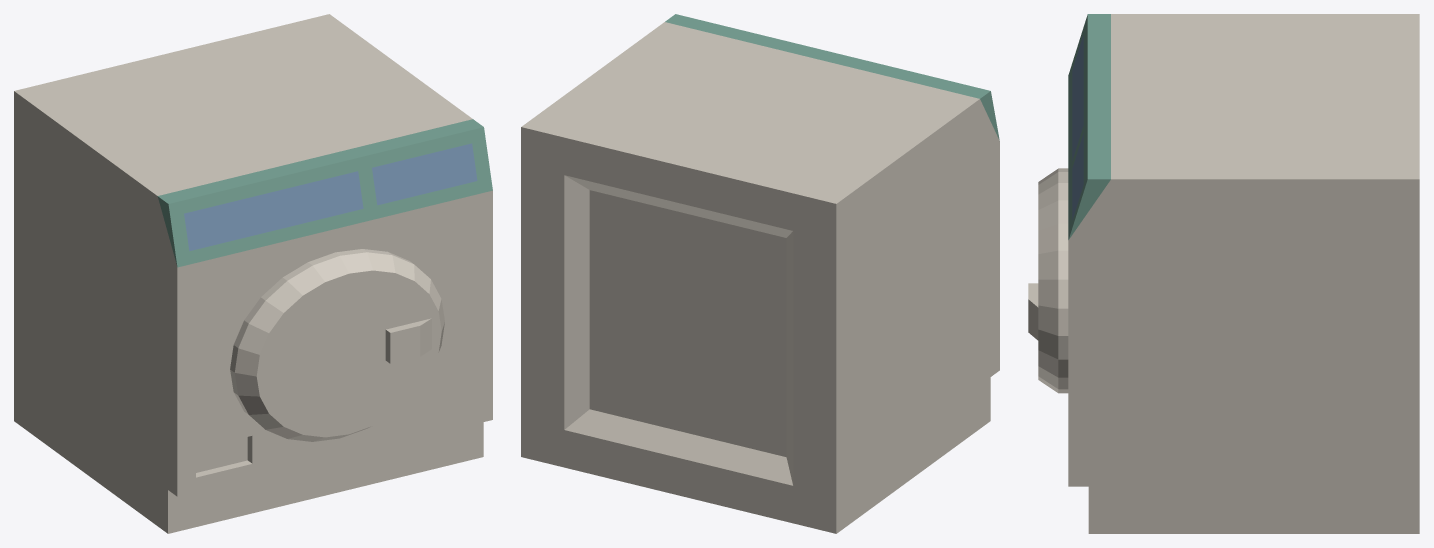
File: washer.glb
The picture shows the model from 3 angles, left to right: view 1: azimuth 30°, elevation 25°; view 2: azimuth 150°, elevation 25°; view 3: azimuth 270°, elevation 25°; orthographic projection. The views are drawn at different scales.
Bounding box in the file's own units: 1 × 1 × 1.
